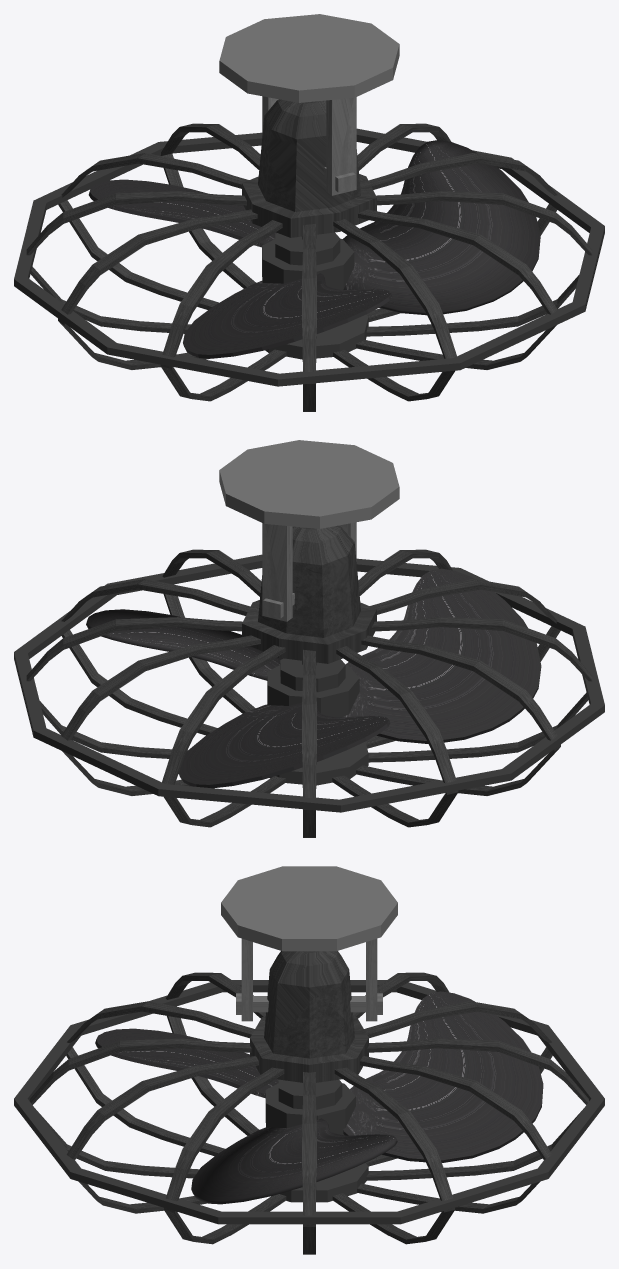
Rendered from FanBusTest.fbx.
3 renders of one model, top to bottom at view 1: azimuth 30°, elevation 25°; view 2: azimuth 150°, elevation 25°; view 3: azimuth 270°, elevation 25°, orthographic. The views are drawn at different scales.
Visible parts, largest first — view 1: Cube, Cube.001, Circle.003, Cube.062, Circle.002; view 2: Cube, Cube.001, Circle.003, Cube.062, Circle.002; view 3: Cube, Cube.001, Circle.003, Cube.062, Circle.002.
Boxes of the visible parts, box(x1,y1,x2,y2) form: Cube: box(14, 99, 604, 411); Cube.001: box(88, 140, 540, 358); Circle.003: box(219, 14, 399, 102); Cube.062: box(262, 96, 356, 195); Circle.002: box(265, 314, 368, 359); Cube: box(14, 525, 604, 837); Cube.001: box(86, 568, 541, 788); Circle.003: box(219, 440, 399, 528); Cube.062: box(262, 522, 356, 621); Circle.002: box(270, 741, 368, 785); Cube: box(14, 951, 604, 1254); Cube.001: box(95, 991, 543, 1204); Circle.003: box(221, 866, 397, 951); Cube.062: box(236, 938, 382, 1021); Circle.002: box(280, 1163, 368, 1202).
Bounding box in the file's own units: 62.45 × 35.24 × 65.66.
